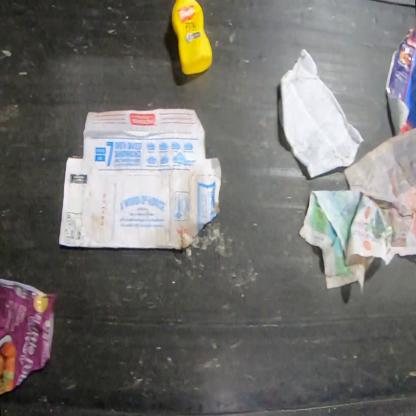cardboard: (59, 109, 221, 251)
rigid_plastic: (170, 0, 212, 76)
soft_plastic: (0, 276, 57, 397)
